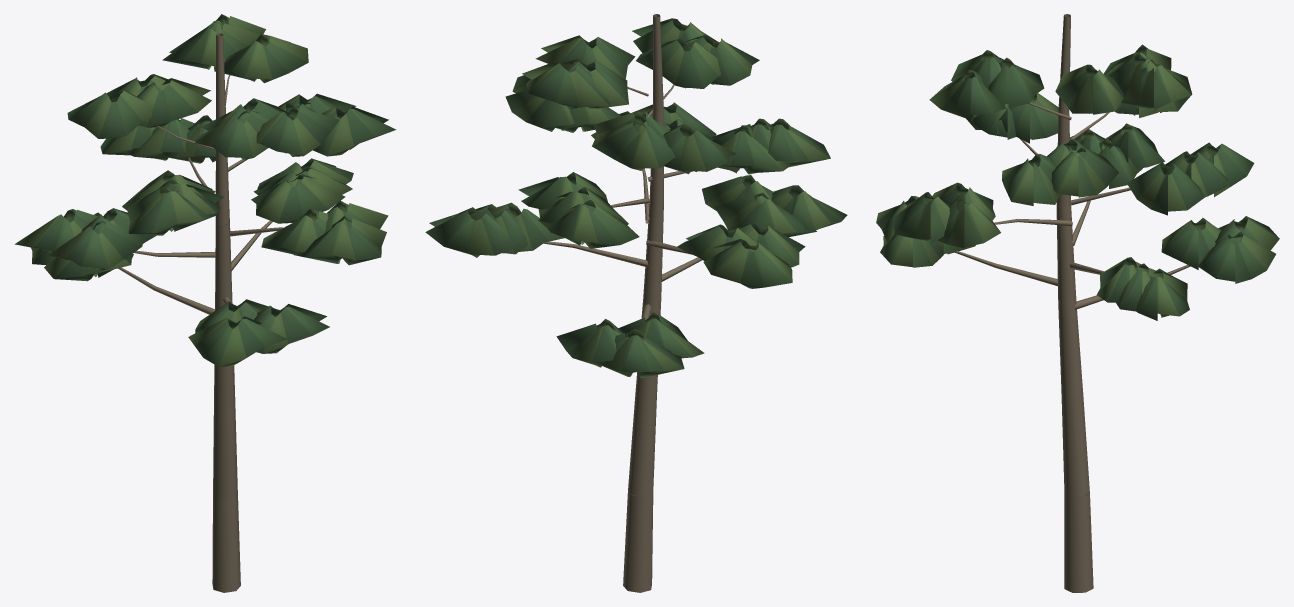
File: PinFond_2.fbx
3 renders of one model, left to right at view 1: azimuth 30°, elevation 25°; view 2: azimuth 150°, elevation 25°; view 3: azimuth 270°, elevation 25°, orthographic.
Visible parts, largest first — view 1: PinFond_2; view 2: PinFond_2; view 3: PinFond_2.
Part boxes in pixels (x1,y1,x2,y2): PinFond_2: [15, 14, 396, 592]; PinFond_2: [425, 14, 847, 592]; PinFond_2: [876, 14, 1279, 592].
Bounding box in the file's own units: 626 × 961 × 621.
